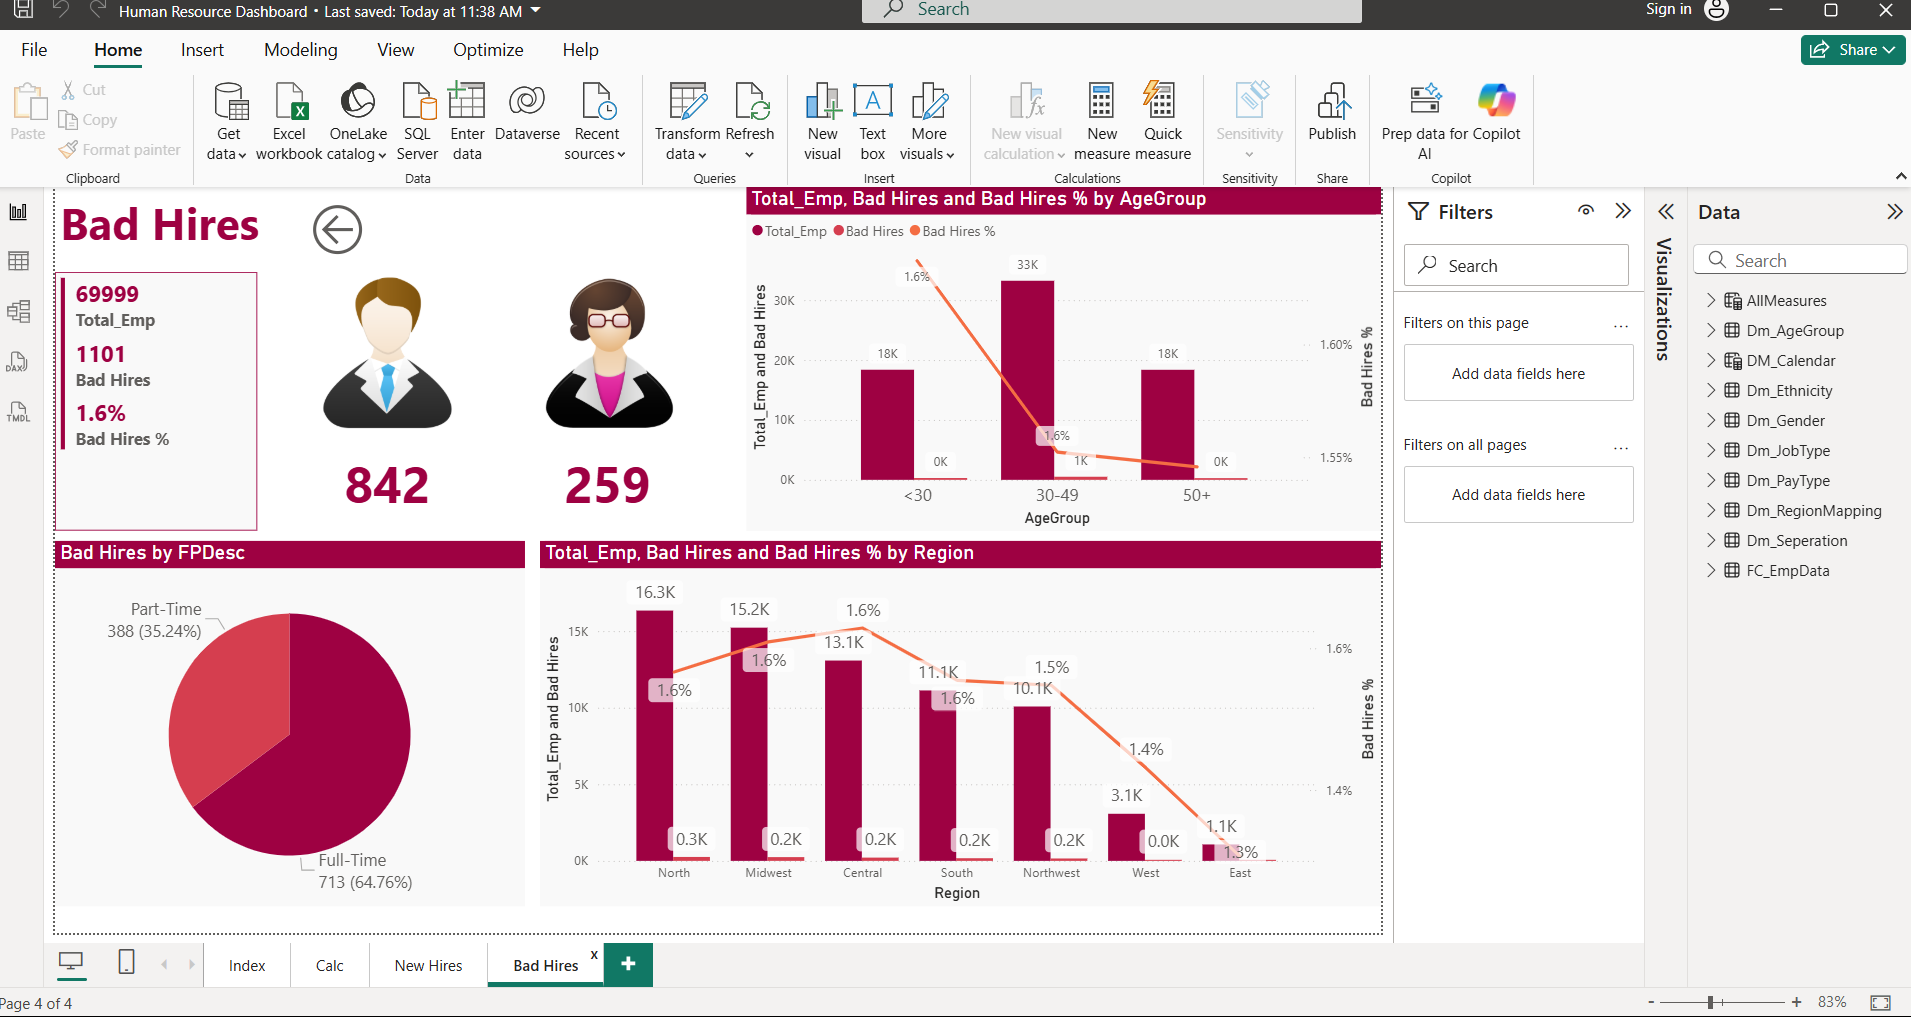

Layout of this report page (visuals, bound fields, positions):
{"tool":"powerbi","page":{"name":"Bad Hires","canvas":[1280,720],"ordinal":3},"visuals":[{"type":"textbox","box":[0,0,259.6,82.4],"z":0},{"type":"multiRowCard","fields":{"Values":["AllMeasures.Total_Emp","AllMeasures.Bad Hires","AllMeasures.Bad Hires %"]},"box":[0,82.4,195,250],"z":1000},{"type":"image","box":[241.7,82.4,159.3,156.6],"z":2000},{"type":"image","box":[458.7,82.4,153.8,156.6],"z":3000},{"type":"card","fields":{"Values":["AllMeasures.Bad Hires"]},"box":[241.7,239,159.3,93.4],"z":4000},{"type":"card","fields":{"Values":["AllMeasures.Bad Hires"]},"box":[453.2,239,159.3,93.4],"z":5000},{"type":"lineClusteredColumnComboChart","fields":{"Category":["Dm_AgeGroup.AgeGroup"],"Y":["AllMeasures.Total_Emp","AllMeasures.Bad Hires"],"Y2":["AllMeasures.Bad Hires %"]},"box":[667.5,0,612.5,332.4],"z":6000},{"type":"pieChart","fields":{"Y":["AllMeasures.Bad Hires"],"Category":["Dm_JobType.FPDesc"]},"box":[0,342,453.2,353],"z":7000},{"type":"lineClusteredColumnComboChart","fields":{"Y":["AllMeasures.Total_Emp","AllMeasures.Bad Hires"],"Category":["Dm_RegionMapping.Region","Dm_RegionMapping.VP"],"Y2":["AllMeasures.Bad Hires %"]},"box":[468.3,342,811.7,353],"z":8000},{"type":"actionButton","box":[242,10.5,100.1,60.5],"z":9000}]}

Visuals, with their boxes on the page's 1280x720 design canvas (x1, y1, x2, y2). These are canvas units, not pixel positions in the 1911x1017 screenshot, which may show the page scaled, cropped or inside an application window:
textbox: left=0, top=0, right=260, bottom=82
multiRowCard - AllMeasures.Total_Emp x AllMeasures.Bad Hires: left=0, top=82, right=195, bottom=332
image: left=242, top=82, right=401, bottom=239
image: left=459, top=82, right=612, bottom=239
card - AllMeasures.Bad Hires: left=242, top=239, right=401, bottom=332
card - AllMeasures.Bad Hires: left=453, top=239, right=612, bottom=332
lineClusteredColumnComboChart - Dm_AgeGroup.AgeGroup x AllMeasures.Total_Emp: left=668, top=0, right=1280, bottom=332
pieChart - AllMeasures.Bad Hires x Dm_JobType.FPDesc: left=0, top=342, right=453, bottom=695
lineClusteredColumnComboChart - AllMeasures.Total_Emp x AllMeasures.Bad Hires: left=468, top=342, right=1280, bottom=695
actionButton: left=242, top=10, right=342, bottom=71
